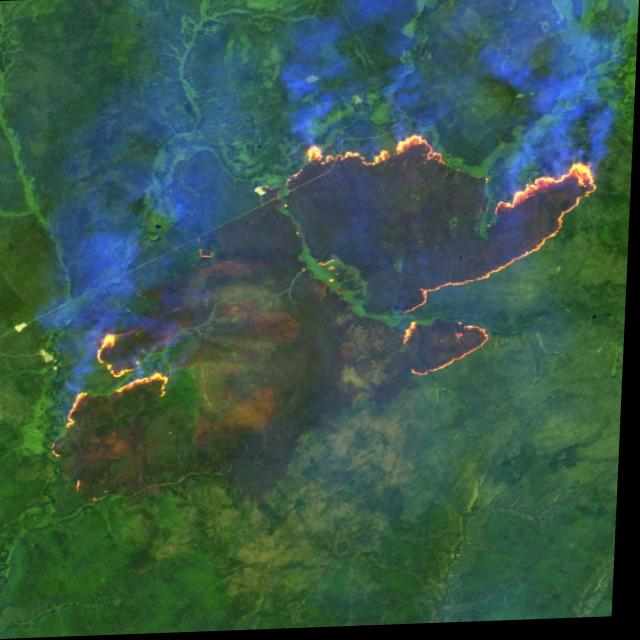fire: (274, 122, 616, 393), (40, 309, 185, 471)
